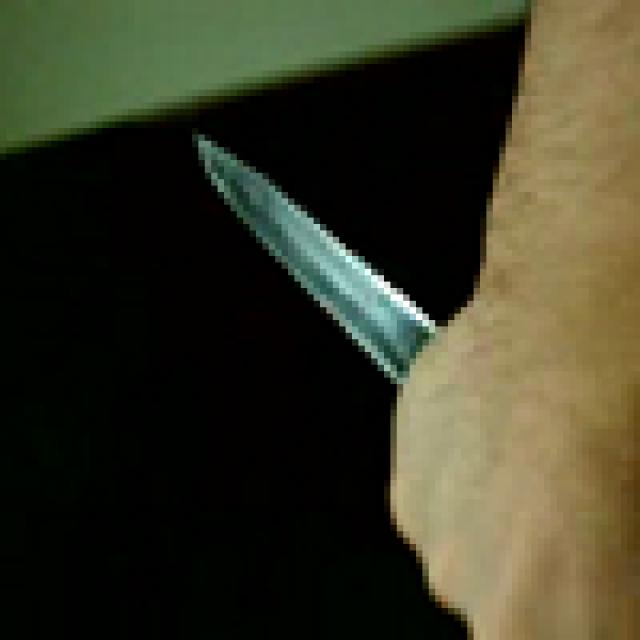Knife: (186, 121, 454, 396)
